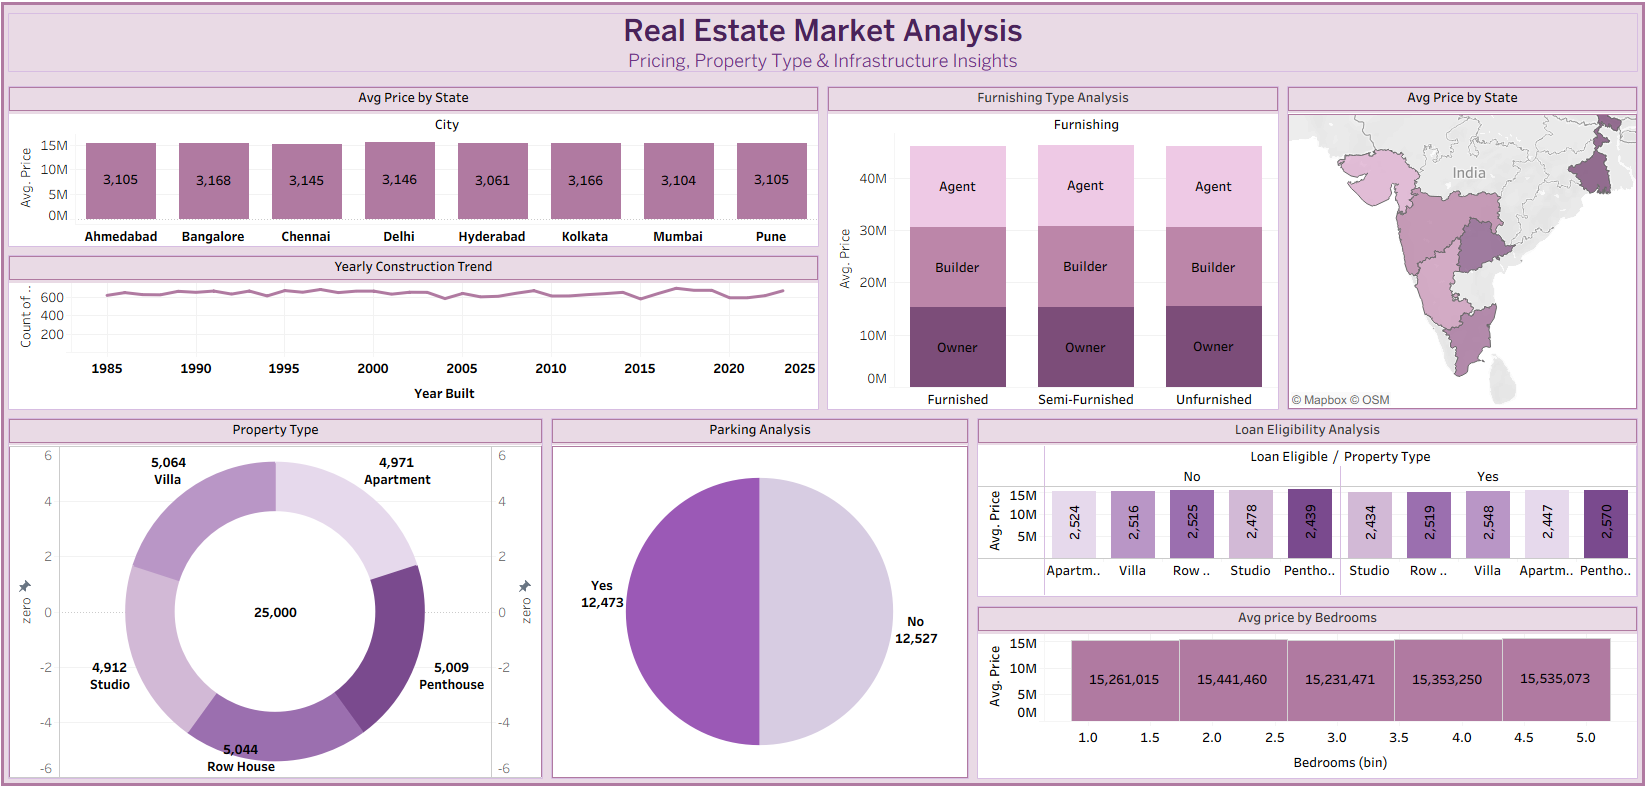

The page's visual inventory and layout, read from the dashboard file:
{"tool":"tableau","page":{"name":"Dashboard","canvas":[1650,790],"ordinal":0},"visuals":[{"type":"title","box":[6,6,1638,77]},{"type":"worksheet","title":"Avg Price by City","mark":"Automatic","rows":["Price"],"cols":["City"],"box":[6,83,818.9,169.2]},{"type":"worksheet","title":"Furnishing type Analysis","mark":"Automatic","rows":["Price"],"cols":["Furnishing"],"box":[825,83,460,332.2]},{"type":"worksheet","title":"Price distrubution by State","mark":"Multipolygon","box":[1285,83,359,332.2]},{"type":"worksheet","title":"Yearly Construction Trend","mark":"Automatic","rows":["Property_ID"],"cols":["Year_Built"],"box":[6,252.2,818.9,163]},{"type":"worksheet","title":"Property Type","mark":"Pie","rows":["Calculation_1847320283424505856","Calculation_1847320283424505856"],"box":[6,415.2,543.2,368.8]},{"type":"worksheet","title":"Parking Analysis","mark":"Pie","box":[549.2,415.2,426.1,368.8]},{"type":"worksheet","title":"Loan Eligibility Analysis","mark":"Automatic","rows":["Price"],"cols":["Loan_Eligible","Property_Type"],"box":[975.3,415.2,668.7,187.4]},{"type":"worksheet","title":"Avg price by bedrooms","mark":"Automatic","rows":["Price"],"cols":["Bedrooms (bin)"],"box":[975.3,602.7,668.7,181.3]}]}

Visuals, with their boxes in screenshot pixels (x1, y1, x2, y2), scaled from the page's 1650x790 canvas onto the 1646x786 screenshot:
title: 6, 6, 1640, 83
"Avg Price by City" worksheet: 6, 83, 823, 251
"Furnishing type Analysis" worksheet: 823, 83, 1282, 413
"Price distrubution by State" worksheet (Multipolygon marks): 1282, 83, 1640, 413
"Yearly Construction Trend" worksheet: 6, 251, 823, 413
"Property Type" worksheet (Pie marks): 6, 413, 548, 780
"Parking Analysis" worksheet (Pie marks): 548, 413, 973, 780
"Loan Eligibility Analysis" worksheet: 973, 413, 1640, 600
"Avg price by bedrooms" worksheet: 973, 600, 1640, 780
